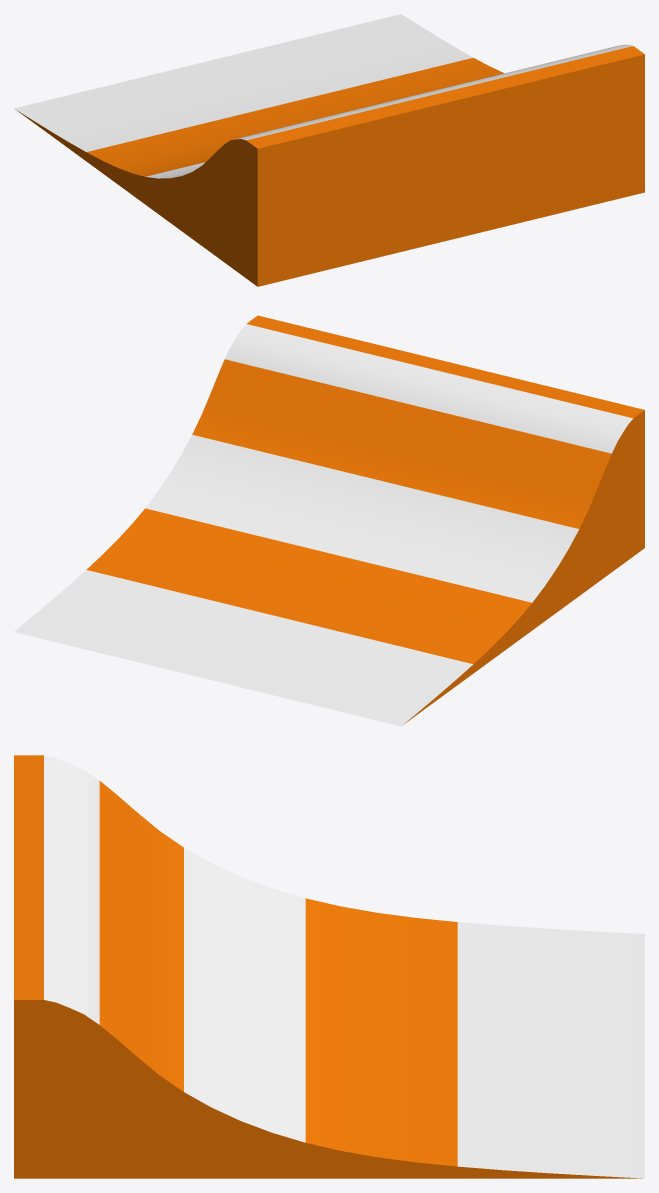
Rendered from RampB.fbx.
The picture shows the model from 3 angles, top to bottom: view 1: azimuth 30°, elevation 25°; view 2: azimuth 150°, elevation 25°; view 3: azimuth 270°, elevation 25°; orthographic projection. The views are drawn at different scales.
Visible parts, largest first — view 1: RampB; view 2: RampB; view 3: RampB.
Part boxes in pixels (x1,y1,x2,y2): RampB: [14, 14, 644, 286]; RampB: [14, 315, 644, 726]; RampB: [14, 755, 644, 1178].
Size of the model in its own units: 242 by 82.51 by 264.
1 material, 1 textured.
